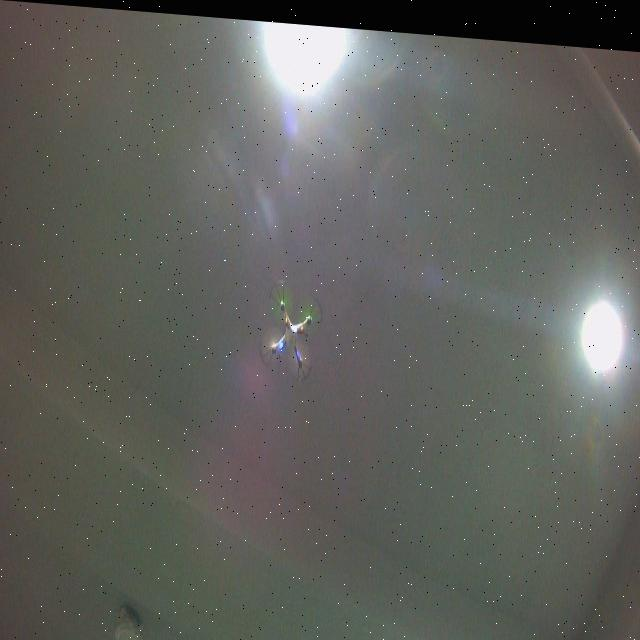drone: (256, 270, 326, 383)
